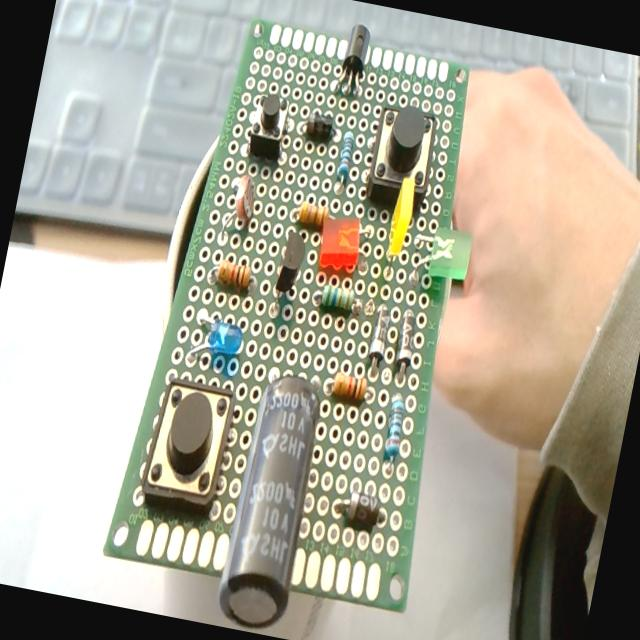Electrolytic capacitor: (214, 370, 330, 634)
cds: (216, 175, 262, 248)
diode: (326, 486, 384, 532), (391, 309, 422, 382), (364, 306, 394, 378), (304, 111, 338, 144)
led: (398, 213, 476, 283), (373, 172, 423, 274), (186, 311, 246, 371), (315, 211, 365, 276)
resistor: (379, 394, 409, 462), (314, 282, 361, 315), (333, 130, 358, 188), (328, 370, 369, 404), (214, 257, 253, 291), (298, 200, 330, 230)
switch: (138, 372, 240, 516), (361, 102, 442, 217), (244, 88, 292, 164)
transistor: (269, 228, 310, 320), (334, 20, 375, 97)
